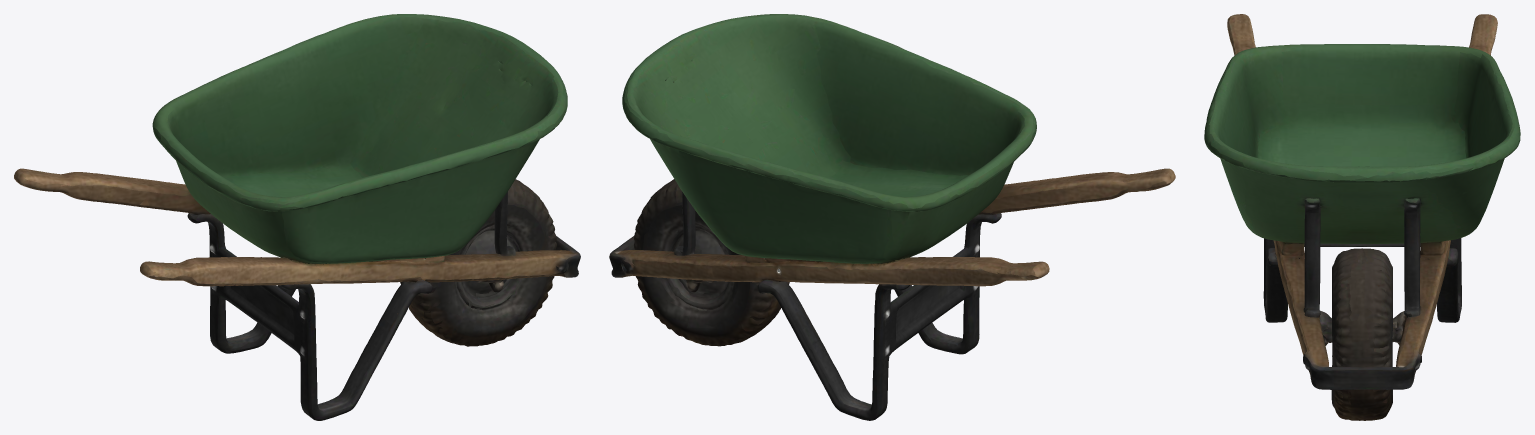
File: parts.glb
The picture shows the model from 3 angles, left to right: view 1: azimuth 30°, elevation 25°; view 2: azimuth 150°, elevation 25°; view 3: azimuth 270°, elevation 25°; orthographic projection. The views are drawn at different scales.
Size of the model in its own units: 1.4 by 0.7752 by 0.823.
3 materials, 3 textured.
